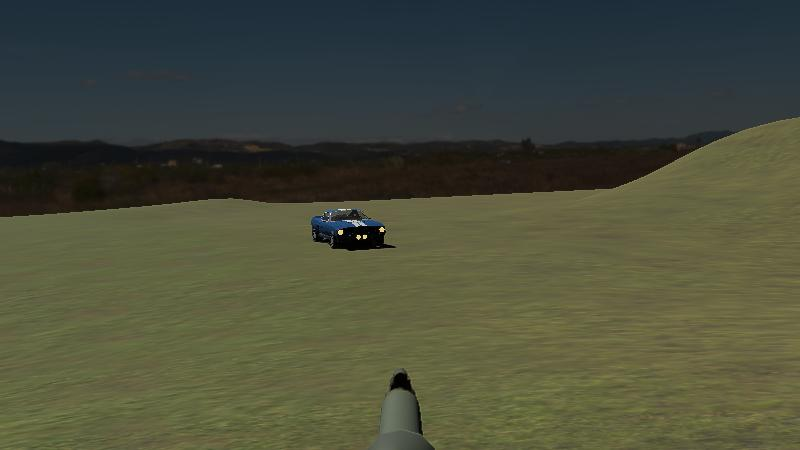car: (309, 204, 389, 253)
